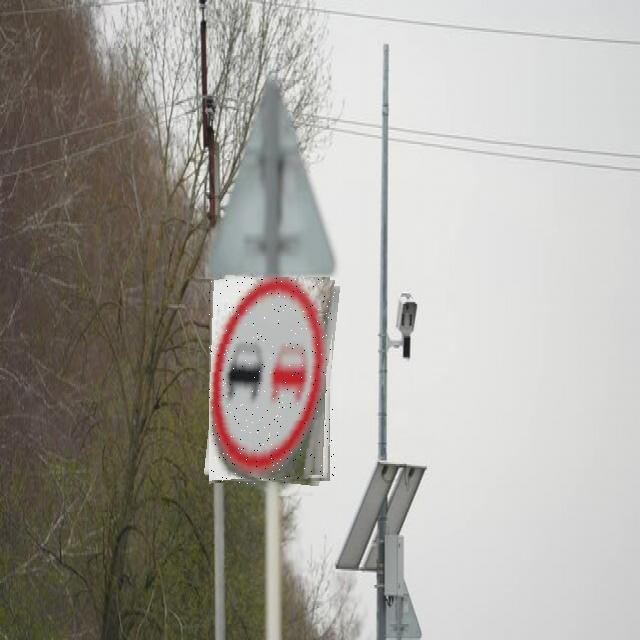no overtaking: (209, 277, 335, 484)
